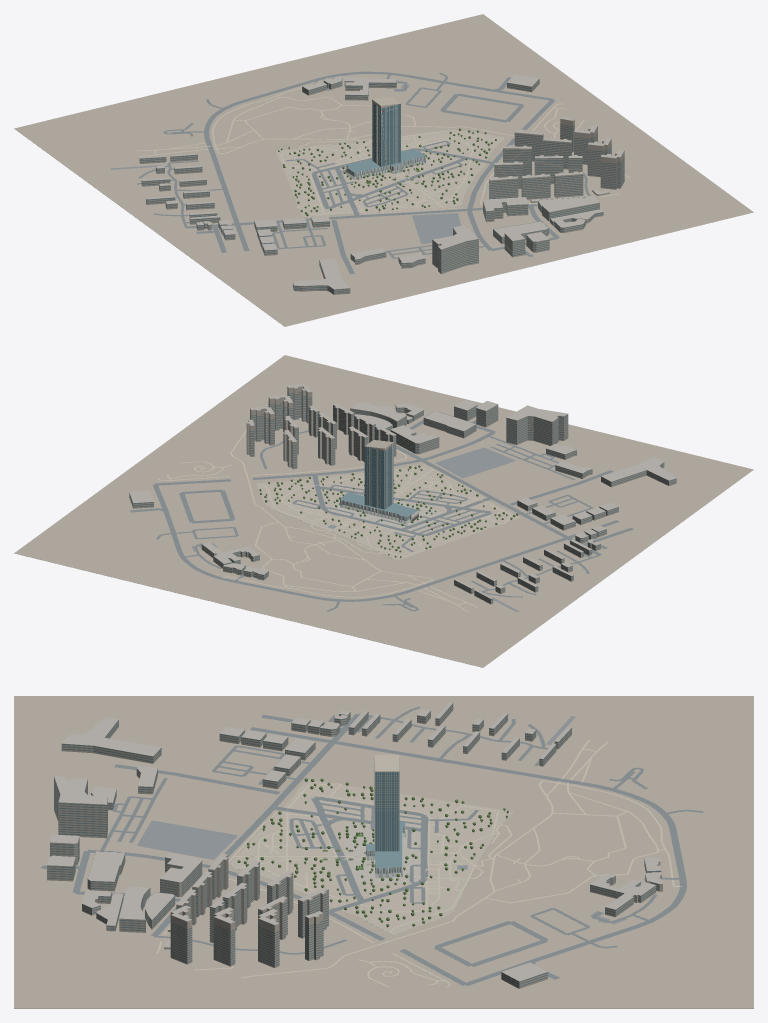
Rendered from bitgaram-kepco.glb.
3 views of the same model, one above another, from view 1: azimuth 30°, elevation 25°; view 2: azimuth 150°, elevation 25°; view 3: azimuth 270°, elevation 25° (orthographic). The views are drawn at different scales.
Visible parts, largest first — view 1: campus_context_ground, ground_floor_campus, central_tower, campus_context_building_988993453, campus_mapped_parking.001, upper_building_envelope, campus_context_building_907022700, campus_context_roof_549649362, campus_context_building_907022704, campus_context_building_907022705, campus_context_building_907022701, campus_context_building_907022706 (+2 smaller); view 2: campus_context_ground, ground_floor_campus, central_tower, campus_context_building_988993453, campus_mapped_parking.001, ground_floor_plaza, upper_building_envelope, campus_context_roof_549649362, campus_context_building_907022702, campus_context_building_907022700, campus_context_building_907022701, campus_context_building_549929001; view 3: campus_context_ground, ground_floor_campus, ground_floor_plaza, campus_mapped_parking.001, central_tower, campus_context_building_988993453, campus_context_roof_549649362, campus_context_building_907022700, campus_context_building_907022702, campus_context_building_907022701, campus_context_roof_988993453, campus_context_roof_988993440 (+14 smaller).
Part boxes in pixels (x1=…): campus_context_ground: x1=14, y1=14, x2=753, y2=326; ground_floor_campus: x1=275, y1=130, x2=504, y2=217; central_tower: x1=372, y1=102, x2=400, y2=166; campus_context_building_988993453: x1=432, y1=228, x2=478, y2=274; campus_mapped_parking.001: x1=412, y1=213, x2=460, y2=243; upper_building_envelope: x1=346, y1=149, x2=425, y2=176; campus_context_building_907022700: x1=600, y1=151, x2=624, y2=189; campus_context_roof_549649362: x1=293, y1=259, x2=349, y2=289; campus_context_building_907022704: x1=554, y1=174, x2=583, y2=197; campus_context_building_907022705: x1=521, y1=175, x2=550, y2=199; campus_context_building_907022701: x1=587, y1=139, x2=611, y2=177; campus_context_building_907022706: x1=489, y1=178, x2=518, y2=198; campus_context_ground: x1=14, y1=355, x2=753, y2=667; ground_floor_campus: x1=256, y1=465, x2=520, y2=560; central_tower: x1=364, y1=445, x2=393, y2=509; campus_context_building_988993453: x1=506, y1=414, x2=568, y2=445; campus_mapped_parking.001: x1=435, y1=447, x2=516, y2=478; ground_floor_plaza: x1=327, y1=490, x2=443, y2=532; upper_building_envelope: x1=340, y1=492, x2=418, y2=520; campus_context_roof_549649362: x1=601, y1=456, x2=676, y2=481; campus_context_building_907022702: x1=250, y1=408, x2=274, y2=445; campus_context_building_907022700: x1=287, y1=386, x2=312, y2=423; campus_context_building_907022701: x1=268, y1=397, x2=293, y2=431; campus_context_building_549929001: x1=390, y1=430, x2=439, y2=454; campus_context_ground: x1=14, y1=696, x2=753, y2=1008; ground_floor_campus: x1=230, y1=779, x2=513, y2=935; ground_floor_plaza: x1=345, y1=821, x2=420, y2=882; campus_mapped_parking.001: x1=137, y1=820, x2=237, y2=859; central_tower: x1=375, y1=771, x2=399, y2=851; campus_context_building_988993453: x1=54, y1=777, x2=107, y2=838; campus_context_roof_549649362: x1=62, y1=717, x2=161, y2=756; campus_context_building_907022700: x1=170, y1=907, x2=192, y2=964; campus_context_building_907022702: x1=258, y1=911, x2=279, y2=967; campus_context_building_907022701: x1=213, y1=909, x2=235, y2=966; campus_context_roof_988993453: x1=54, y1=776, x2=107, y2=804; campus_context_roof_988993440: x1=88, y1=851, x2=124, y2=881.
Size of the model in its own units: 1150 by 161 by 1150.
